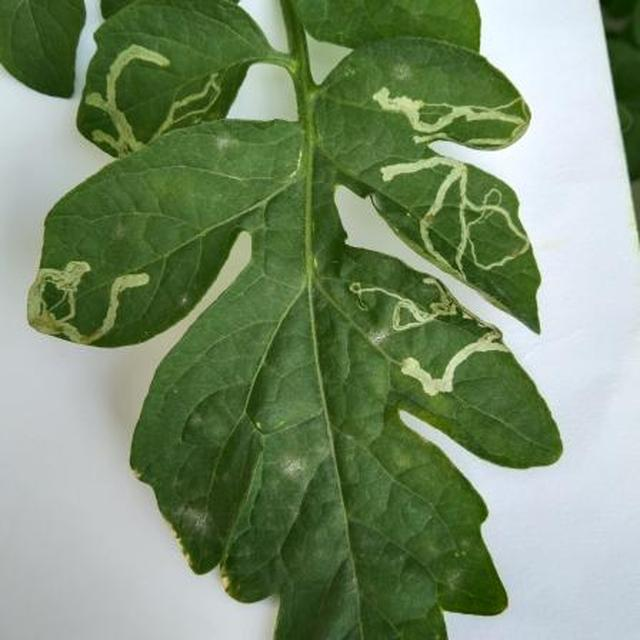Leaf Miner: (246, 113, 640, 640)
